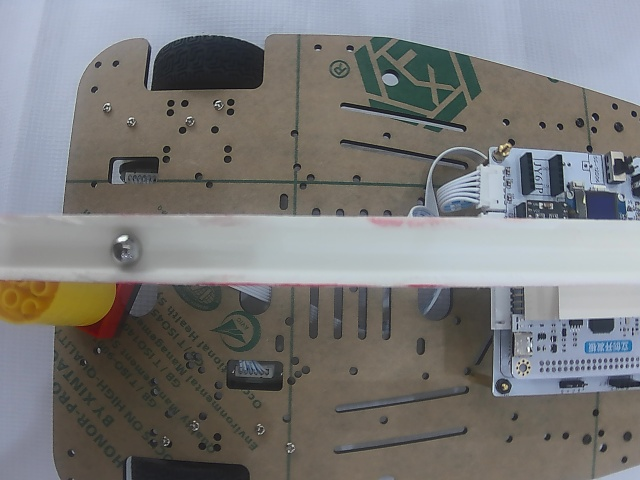steelball: (110, 233, 143, 265)
